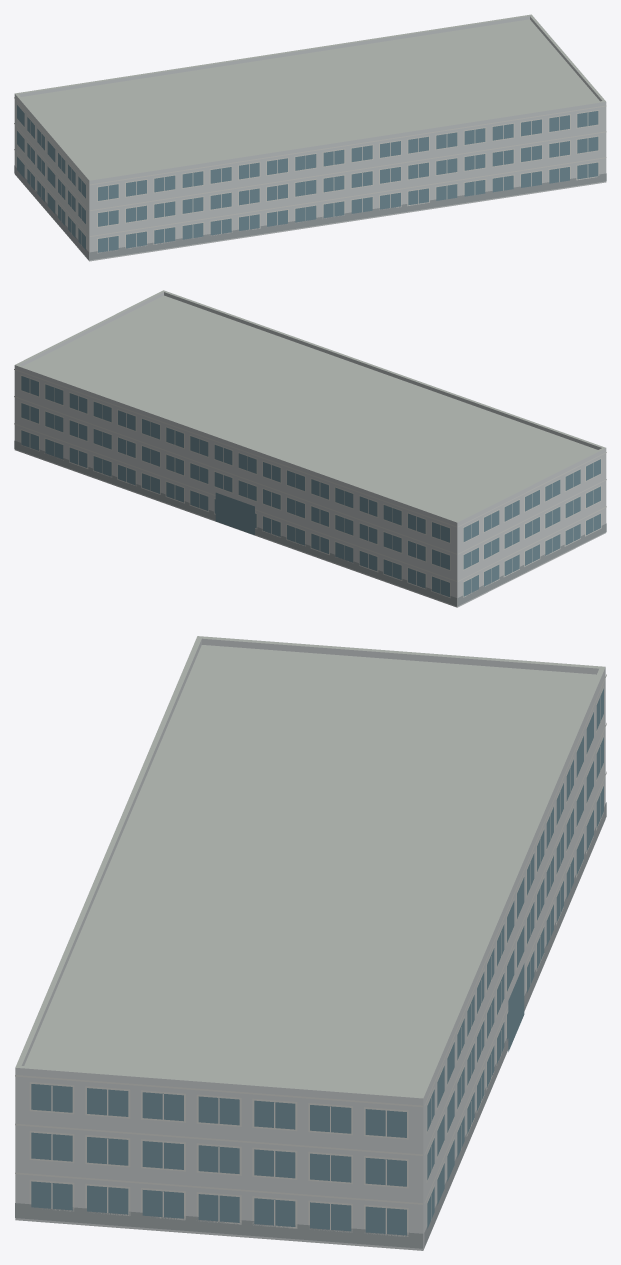
The model's file is public-237343e1-0808-4d39-bb1b-53f23b115a14.glb.
3 views of the same model, one above another, from view 1: azimuth 30°, elevation 25°; view 2: azimuth 150°, elevation 25°; view 3: azimuth 270°, elevation 25° (orthographic). The views are drawn at different scales.
Visible parts, largest first — view 1: public-237343e1-0808-4d39-bb1b-53f23b115a14; view 2: public-237343e1-0808-4d39-bb1b-53f23b115a14; view 3: public-237343e1-0808-4d39-bb1b-53f23b115a14.
Part boxes in pixels (x1=…): public-237343e1-0808-4d39-bb1b-53f23b115a14: x1=14, y1=14, x2=606, y2=261; public-237343e1-0808-4d39-bb1b-53f23b115a14: x1=14, y1=290, x2=606, y2=607; public-237343e1-0808-4d39-bb1b-53f23b115a14: x1=15, y1=636, x2=606, y2=1250.
Size of the model in its own units: 59.66 by 9.15 by 32.25.
